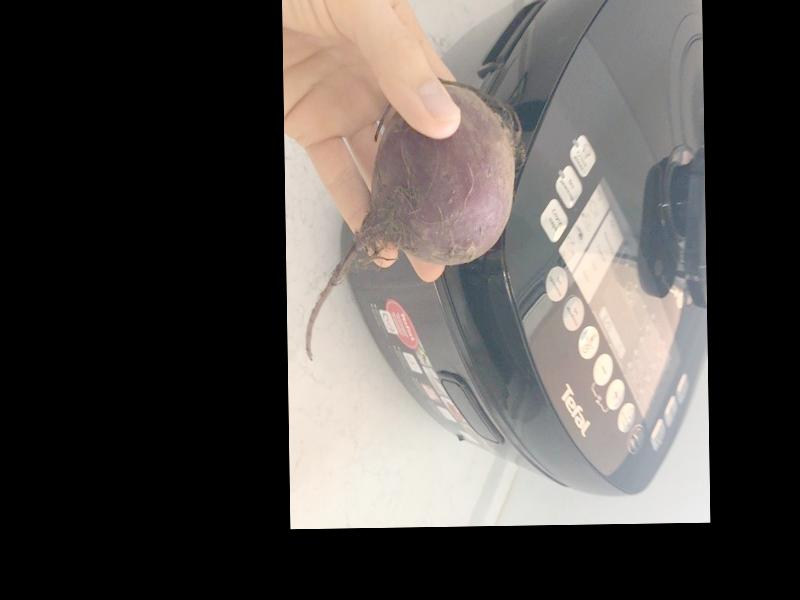Beet: (302, 79, 526, 359)
